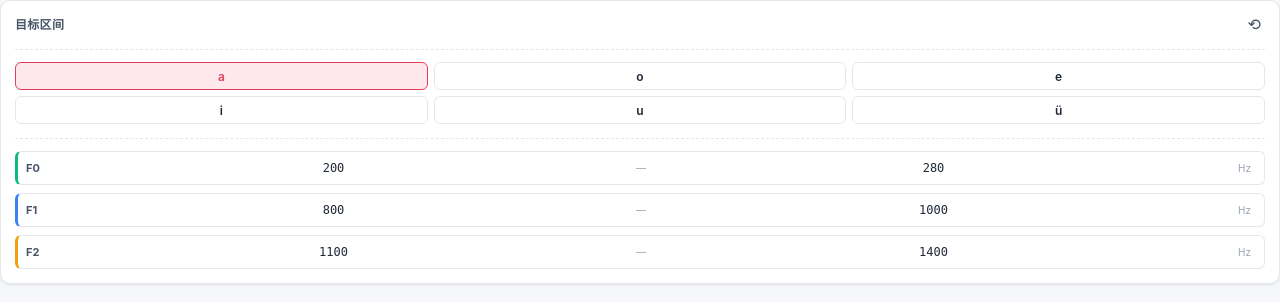
Scenario: desktop target behavior › clamps F1上限 on blur with the same rule
Replace the text in the number field named "F1上限" with "700" at (941, 210), box [652,199,1230,221]
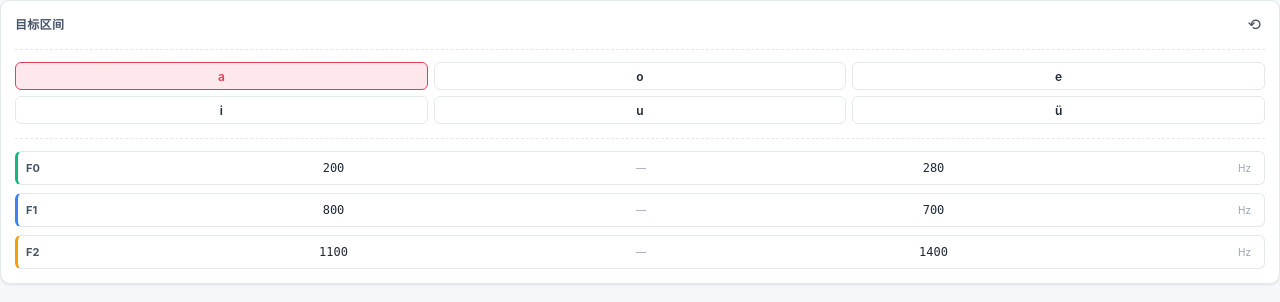
Leave the number field named "F1上限", box [652,199,1230,221]
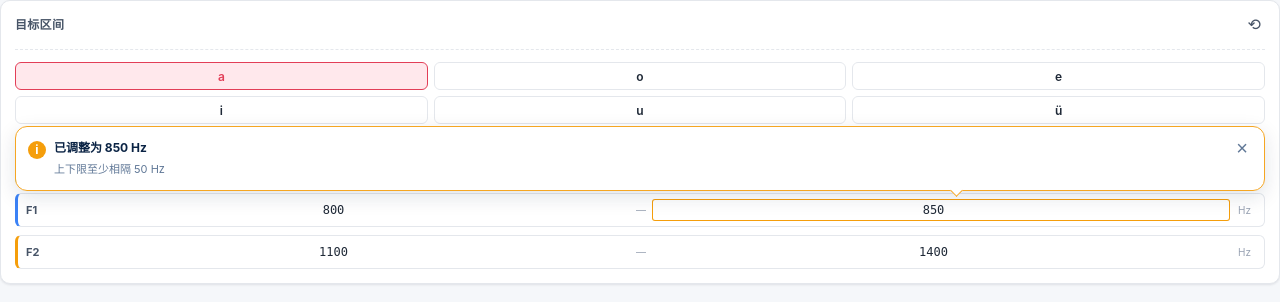
Expected: the number field named "F1上限" holds "850", [652,199,1230,221]
Expected: the message "i 已调整为 850 Hz 上下限至少相隔 50 Hz ×" is shown, [15,126,1265,191]
